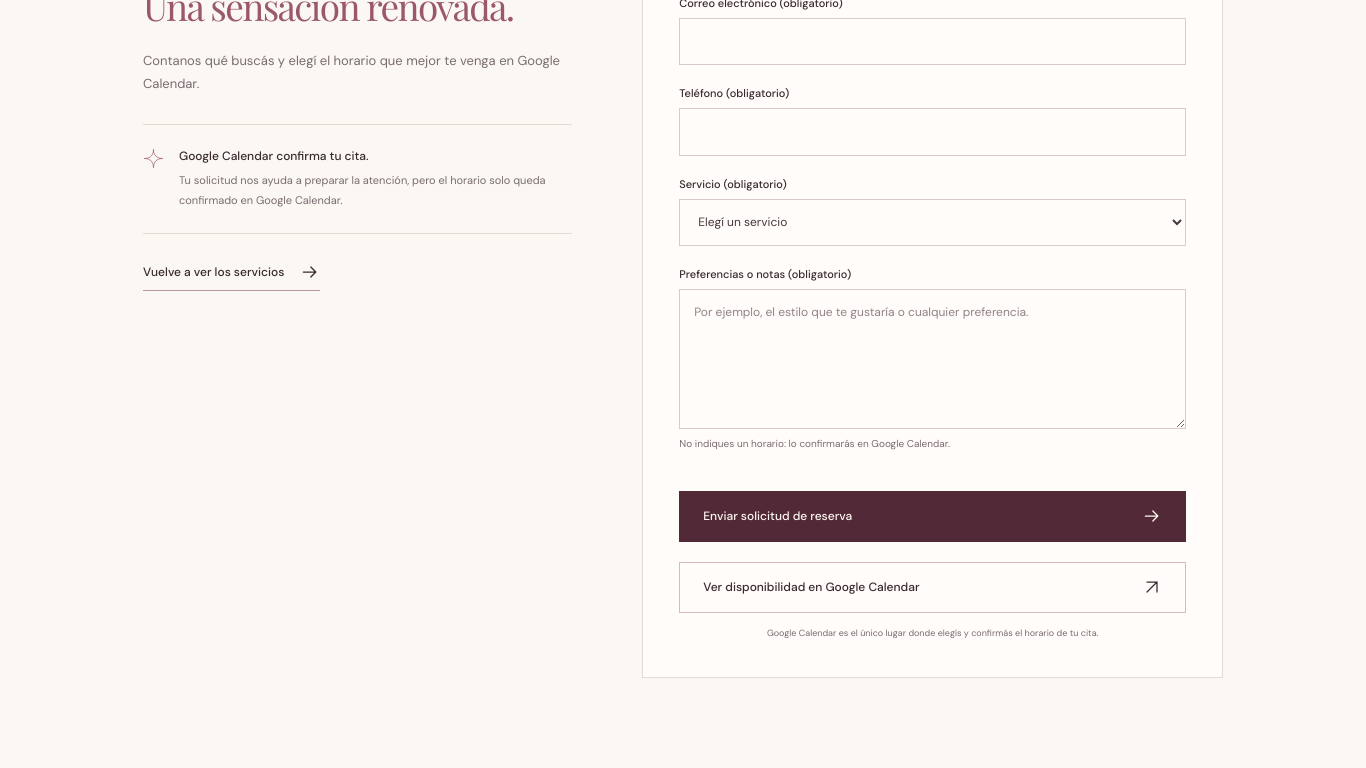
Booking › shows accessible errors for an incomplete request without removing Calendar
(page scrolled)
Click the button "Enviar solicitud de reserva".
click(778, 516)  # box [679,491,1186,542]
(page scrolled)
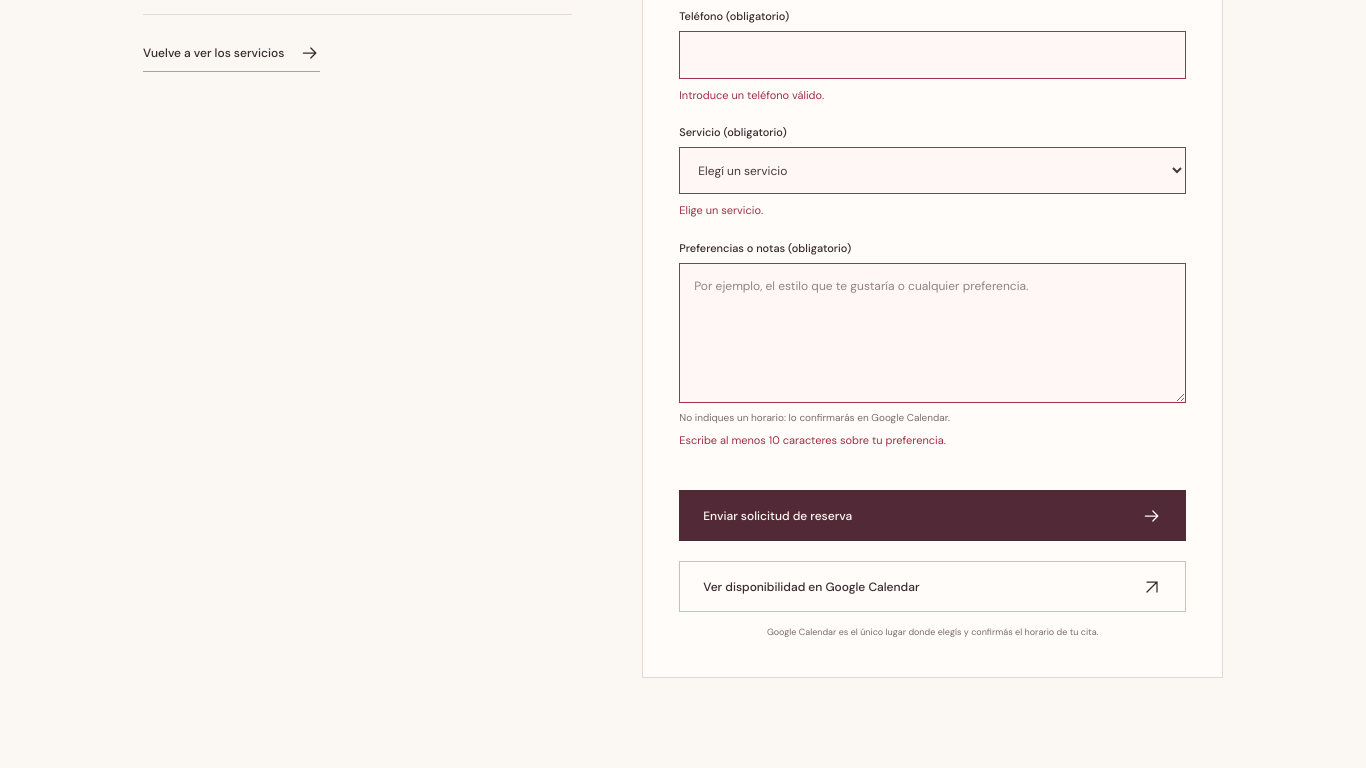
Expected: the link "Ver disponibilidad en Google Calendar" is shown, [679,561,1186,612]
Expected: the text "Introduce un teléfono válido." is shown, [679,88,824,102]
